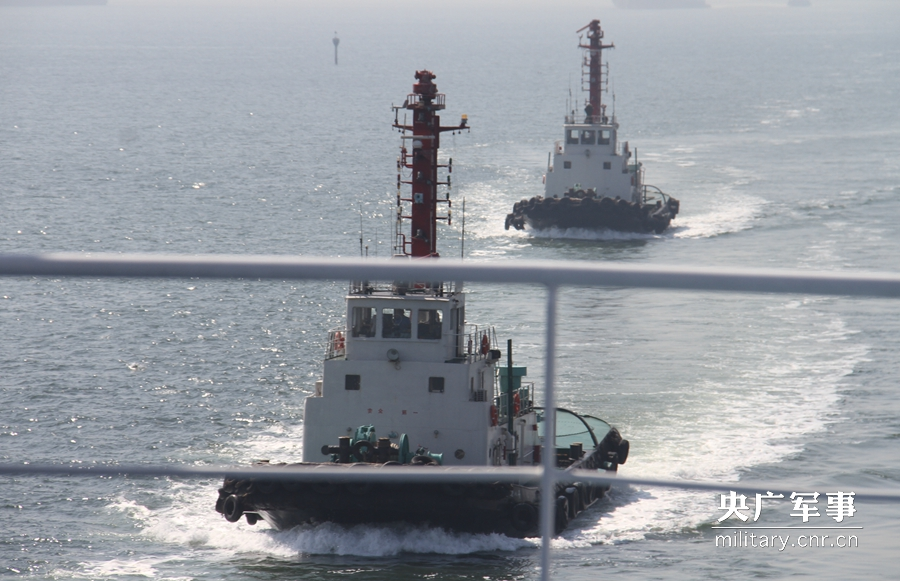otherboat: (228, 68, 644, 529), (506, 5, 686, 238)
